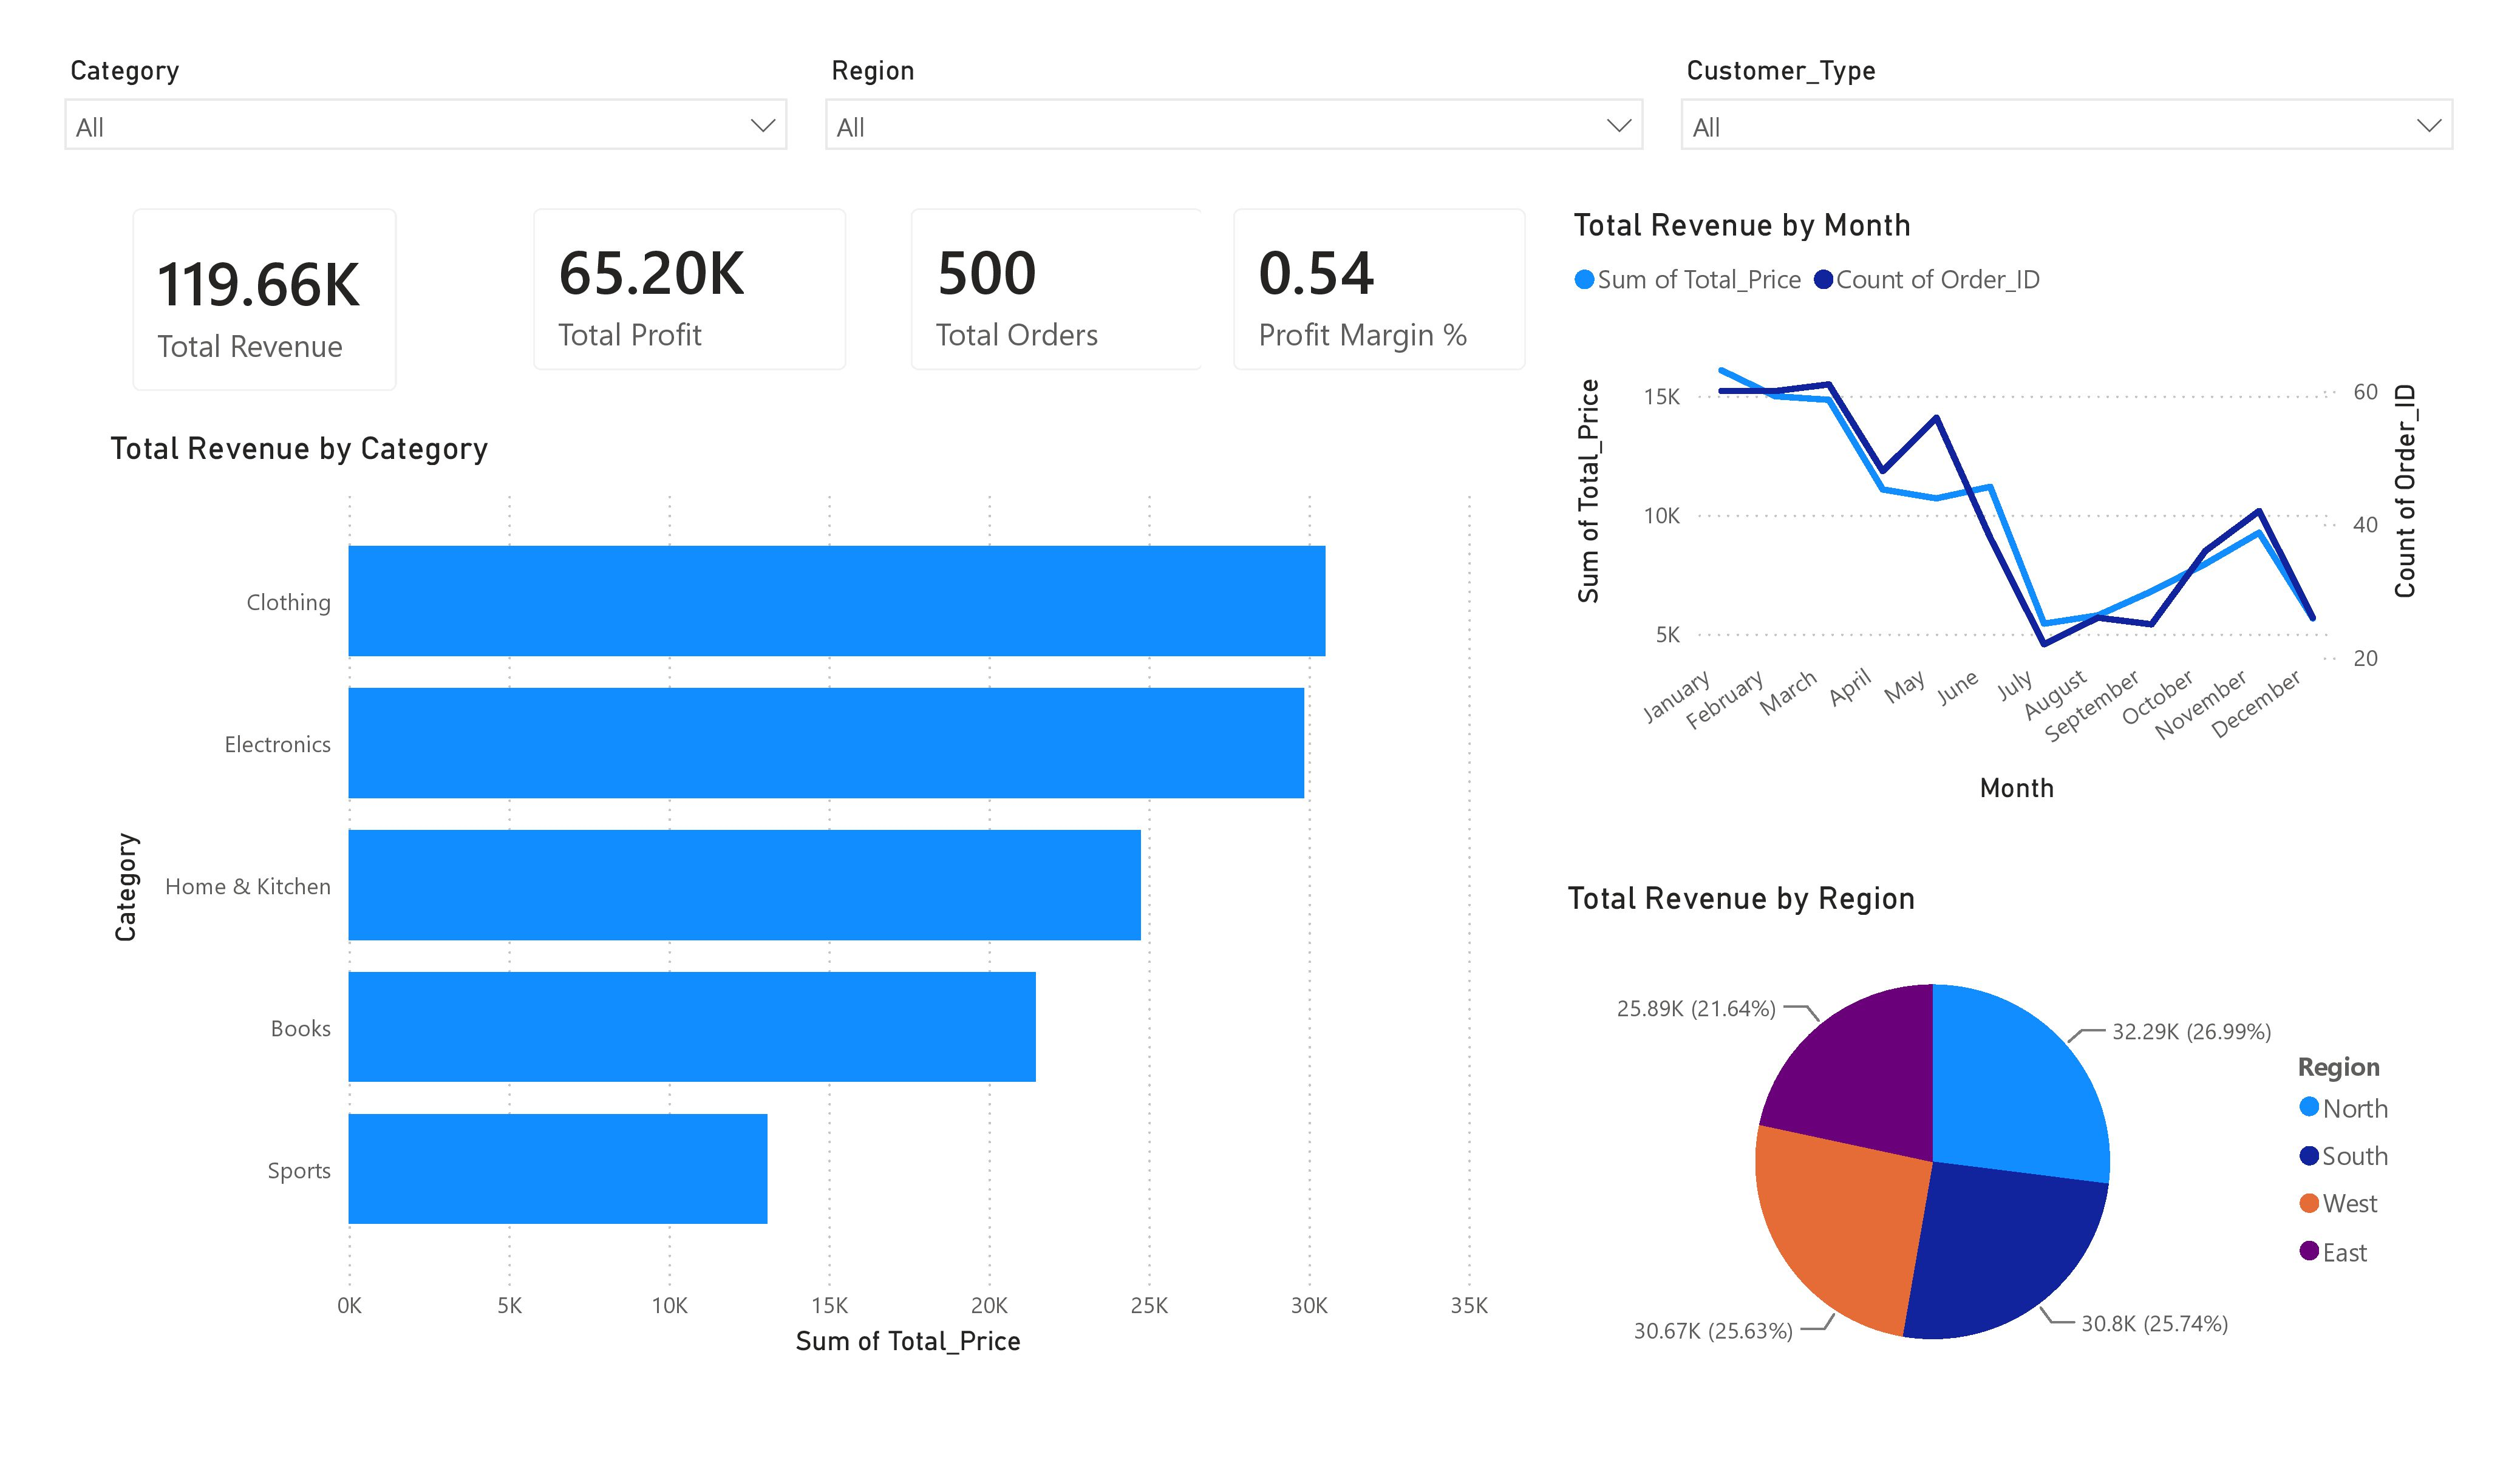

The page's visual inventory and layout, read from the dashboard file:
{"tool":"powerbi","page":{"name":"Page 1","canvas":[1280,720],"ordinal":0},"visuals":[{"type":"cardVisual","fields":{"Data":["raw_sales_data.Total Revenue"]},"box":[28.9,69.3,173.3,130],"z":0},{"type":"cardVisual","fields":{"Data":["raw_sales_data.Total Profit"]},"box":[239.7,69.3,199.3,118.4],"z":1000},{"type":"cardVisual","fields":{"Data":["raw_sales_data.Total Orders"]},"box":[439,69.3,187.7,118.4],"z":2000},{"type":"cardVisual","fields":{"Data":["raw_sales_data.Profit Margin %"]},"box":[609.4,69.3,187.7,118.4],"z":3000},{"type":"barChart","title":"Total Revenue by Category","fields":{"Category":["raw_sales_data.Category"],"Y":["Sum(raw_sales_data.Total_Price)"]},"box":[28.9,202.2,736.5,493.9],"z":4000},{"type":"pieChart","title":"Total Revenue by Region","fields":{"Y":["Sum(raw_sales_data.Total_Price)"],"Category":["raw_sales_data.Region"]},"box":[797.1,439,459.2,280.2],"z":5000},{"type":"lineChart","title":"Total Revenue by Month","fields":{"Category":["raw_sales_data.Order_Date.Variation.Date Hierarchy.Month"],"Y":["Sum(raw_sales_data.Total_Price)"],"Y2":["CountNonNull(raw_sales_data.Order_ID)"]},"box":[800,83.8,456.3,320.6],"z":6000},{"type":"slicer","fields":{"Values":["raw_sales_data.Category"]},"box":[0,0,401.5,69.3],"z":7000},{"type":"slicer","fields":{"Values":["raw_sales_data.Region"]},"box":[401.5,0,450.6,69.3],"z":8000},{"type":"slicer","fields":{"Values":["raw_sales_data.Customer_Type"]},"box":[852,0,427.4,83.8],"z":9000}]}

Visuals, with their boxes on the page's 1280x720 design canvas (x1, y1, x2, y2). These are canvas units, not pixel positions in the 2520x1457 screenshot, which may show the page scaled, cropped or inside an application window:
cardVisual - raw_sales_data.Total Revenue: [x1=29, y1=69, x2=202, y2=199]
cardVisual - raw_sales_data.Total Profit: [x1=240, y1=69, x2=439, y2=188]
cardVisual - raw_sales_data.Total Orders: [x1=439, y1=69, x2=627, y2=188]
cardVisual - raw_sales_data.Profit Margin %: [x1=609, y1=69, x2=797, y2=188]
"Total Revenue by Category" barChart: [x1=29, y1=202, x2=765, y2=696]
"Total Revenue by Region" pieChart: [x1=797, y1=439, x2=1256, y2=719]
"Total Revenue by Month" lineChart: [x1=800, y1=84, x2=1256, y2=404]
slicer - raw_sales_data.Category: [x1=0, y1=0, x2=402, y2=69]
slicer - raw_sales_data.Region: [x1=402, y1=0, x2=852, y2=69]
slicer - raw_sales_data.Customer_Type: [x1=852, y1=0, x2=1279, y2=84]
